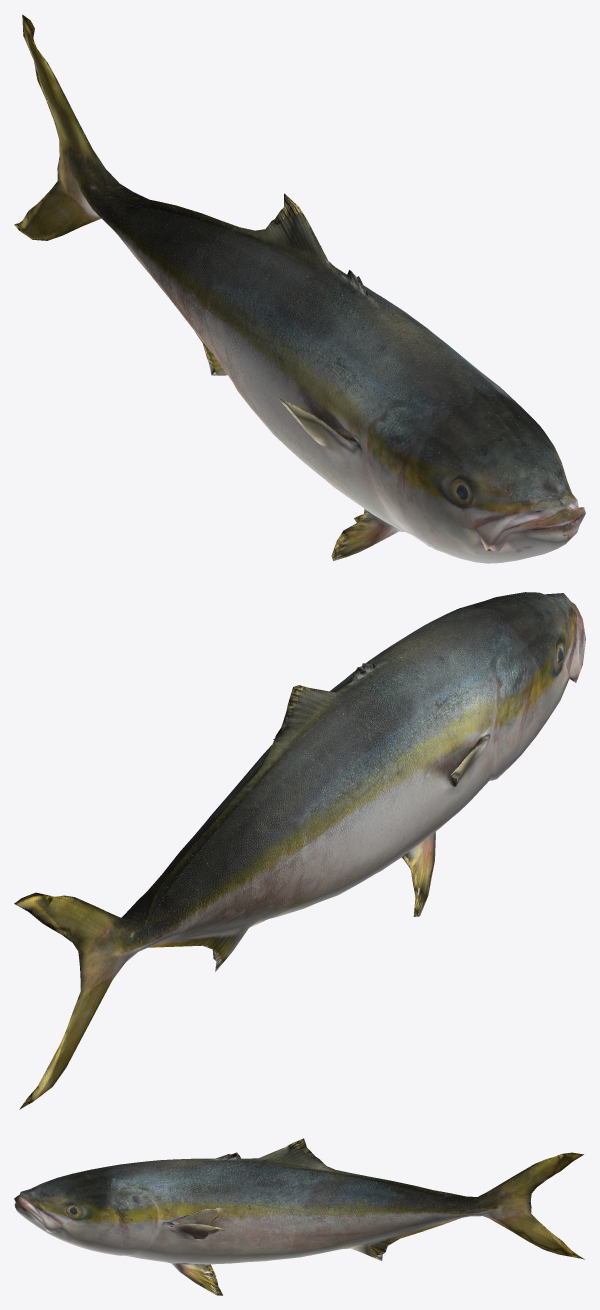
Rendered from kingfish.glb.
3 renders of one model, top to bottom at view 1: azimuth 30°, elevation 25°; view 2: azimuth 150°, elevation 25°; view 3: azimuth 270°, elevation 25°, orthographic. The views are drawn at different scales.
Visible parts, largest first — view 1: kingfish; view 2: kingfish; view 3: kingfish.
Part boxes in pixels (x1,y1,x2,y2): kingfish: (14, 14, 585, 563); kingfish: (14, 592, 585, 1109); kingfish: (14, 1138, 584, 1295).
Bounding box in the file's own units: 0.1592 × 0.2446 × 0.85.
Materials: 1 (1 with a texture image).
